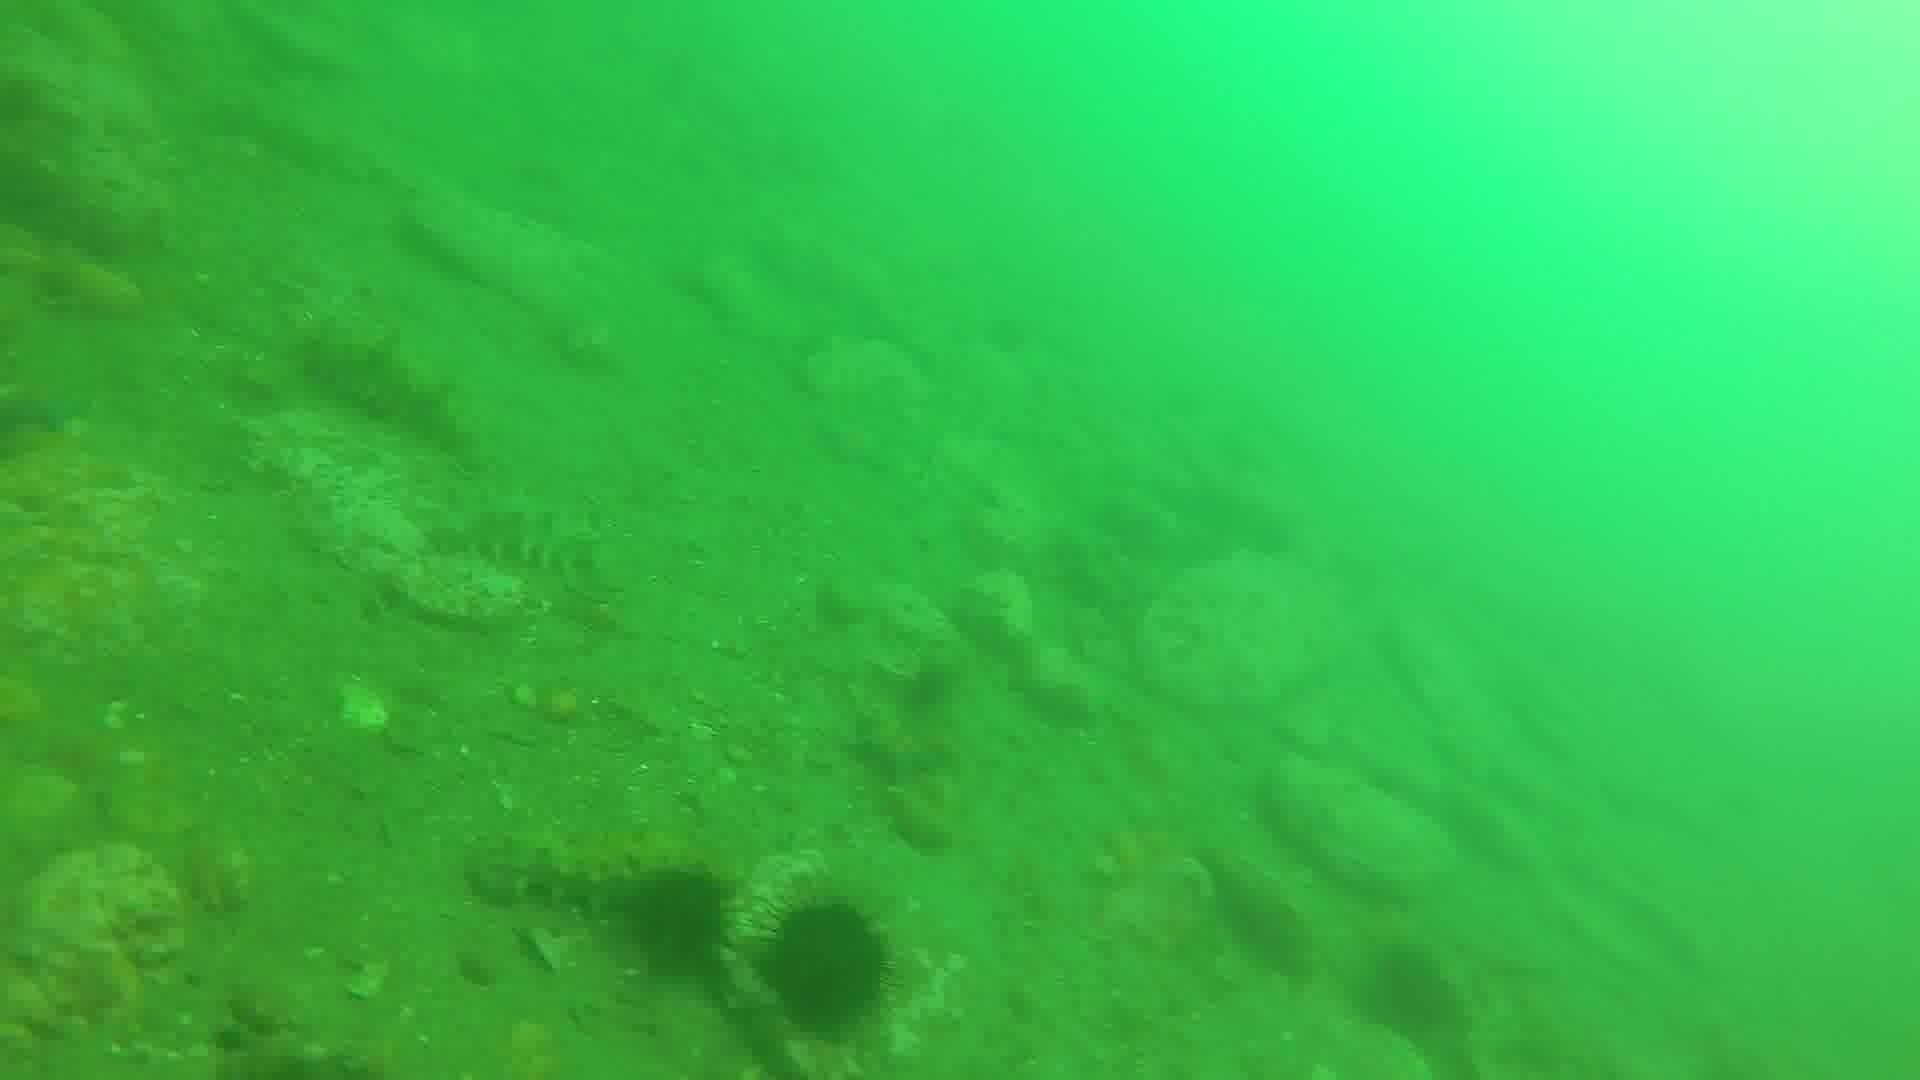echinus: (756, 894, 899, 1036), (618, 862, 737, 976), (1356, 942, 1462, 1044)
holothurian: (293, 322, 483, 462), (425, 493, 609, 579), (464, 833, 651, 918)
starfish: (847, 702, 960, 789), (1, 371, 96, 440)
